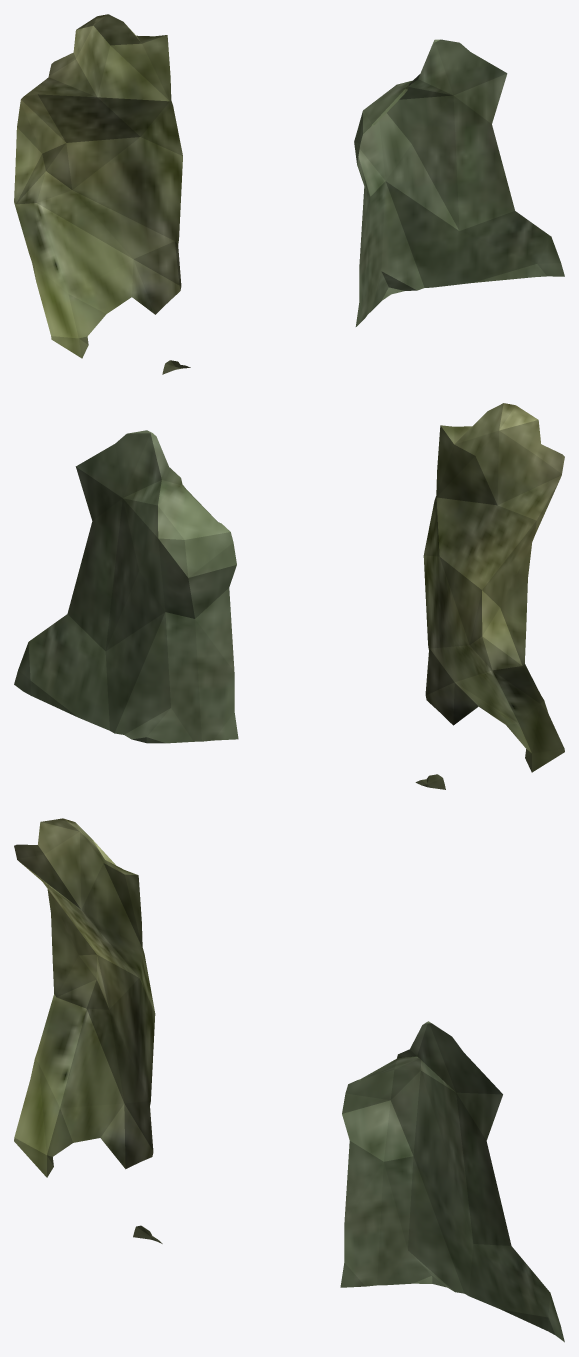
The picture shows the model from 3 angles, top to bottom: view 1: azimuth 30°, elevation 25°; view 2: azimuth 150°, elevation 25°; view 3: azimuth 330°, elevation 25°; orthographic projection. The views are drawn at different scales.
Size of the model in its own units: 3.2 by 2.23 by 0.4449.
1 material, 1 textured.
